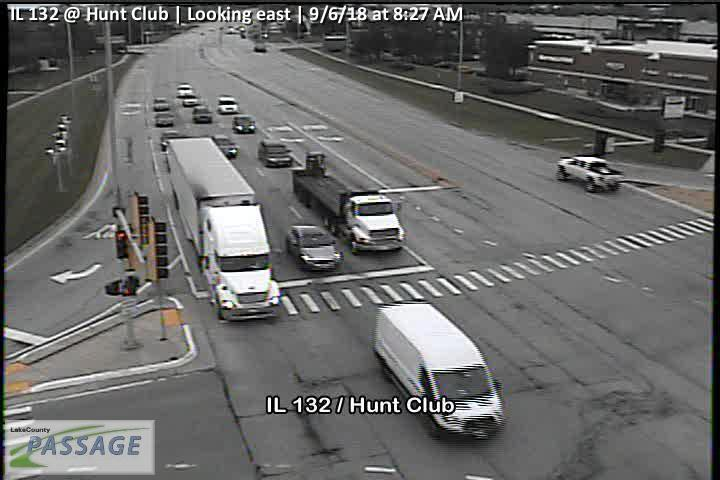Sedan: (374, 301, 504, 443), (285, 223, 345, 273), (259, 137, 292, 167), (210, 132, 239, 158), (231, 114, 255, 133), (217, 96, 238, 114), (191, 106, 213, 122), (153, 110, 175, 126), (176, 81, 193, 98), (153, 95, 170, 110), (182, 92, 197, 105)
Truck: (167, 135, 280, 321), (290, 153, 406, 255), (555, 153, 625, 193)
